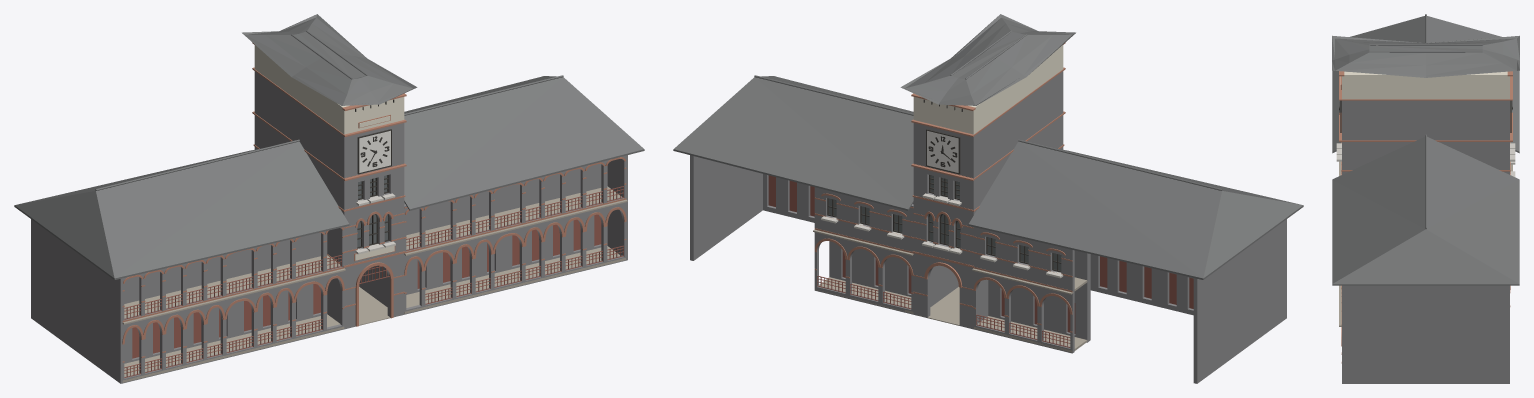
Rendered from full-source.glb.
The picture shows the model from 3 angles, left to right: view 1: azimuth 30°, elevation 25°; view 2: azimuth 150°, elevation 25°; view 3: azimuth 270°, elevation 25°; orthographic projection. The views are drawn at different scales.
Parts seen in each view (by area): view 1: 圣约翰大学怀施堂（韬奋楼）南翼与钟楼; view 2: 圣约翰大学怀施堂（韬奋楼）南翼与钟楼; view 3: 圣约翰大学怀施堂（韬奋楼）南翼与钟楼.
Part boxes in pixels (x1,y1,x2,y2): 圣约翰大学怀施堂（韬奋楼）南翼与钟楼: (14,14,644,383); 圣约翰大学怀施堂（韬奋楼）南翼与钟楼: (673,14,1303,383); 圣约翰大学怀施堂（韬奋楼）南翼与钟楼: (1332,14,1519,383).
Size of the model in its own units: 42.65 by 18.06 by 13.98.
